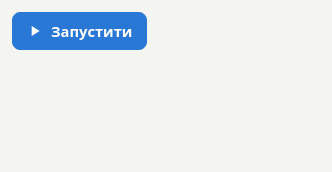
Test: RunControl - діаграма станів кнопки запуску › idle -> running -> passed
This screenshot has width=332, height=172.
Click the button "Запустити": [80, 31] box [12,12,148,50]
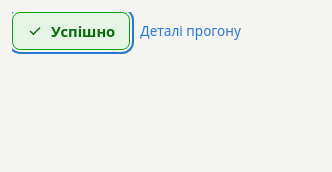
Check: the link "Деталі прогону" is shown, box [140,21,241,41]
